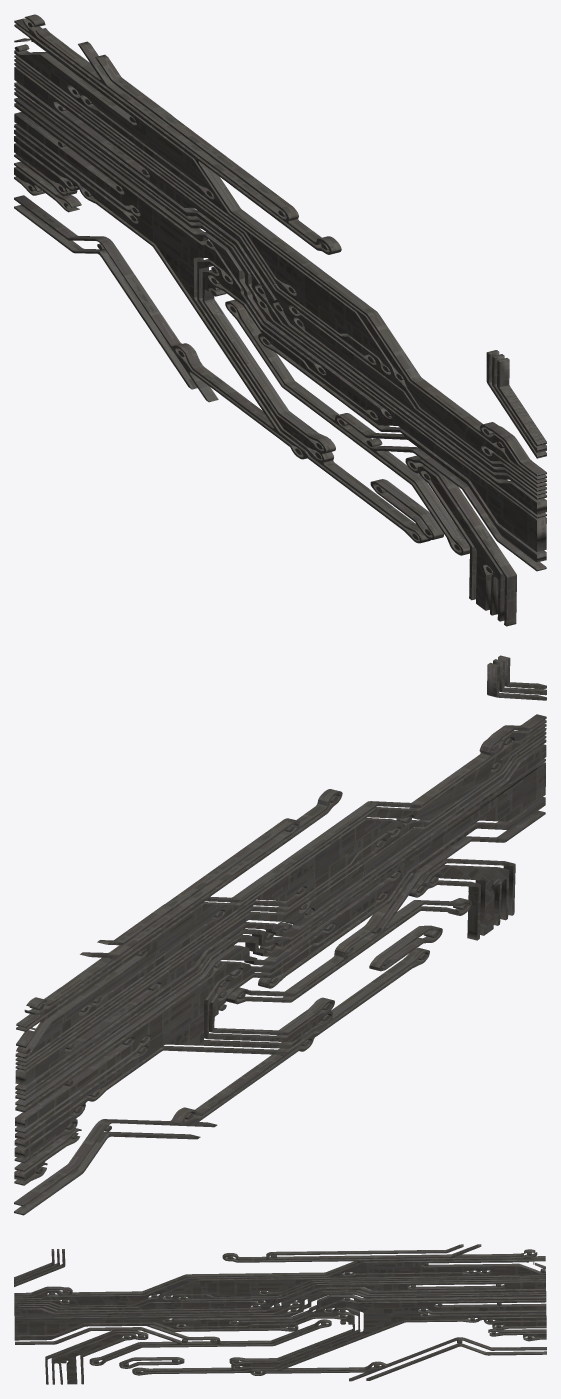
Rendered from top.curcuitry.glb.
3 views of the same model, one above another, from view 1: azimuth 30°, elevation 25°; view 2: azimuth 150°, elevation 25°; view 3: azimuth 270°, elevation 25° (orthographic). The views are drawn at different scales.
Parts seen in each view (by area): view 1: Selection.813; view 2: Selection.813; view 3: Selection.813.
Part boxes in pixels (x1,y1,x2,y2): Selection.813: [14, 14, 546, 626]; Selection.813: [14, 655, 546, 1215]; Selection.813: [14, 1244, 546, 1384].
Size of the model in its own units: 0.0581 by 1.3 by 4.55.
1 material, 1 textured.
